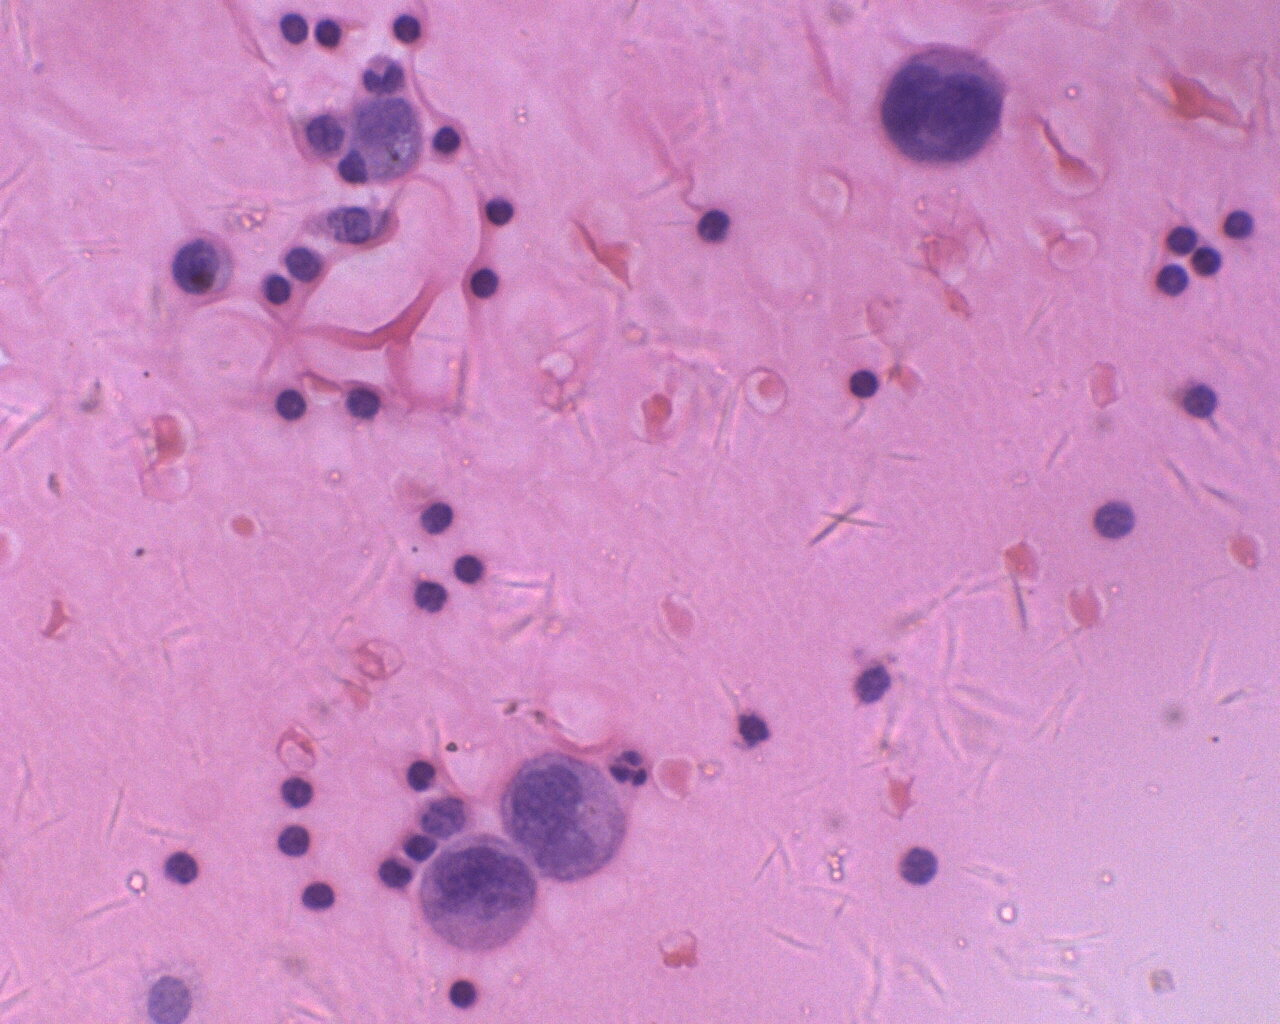ab: (501, 750, 631, 887), (871, 40, 1008, 169), (418, 832, 538, 958), (170, 234, 239, 300)
lymph: (1219, 205, 1262, 248), (274, 383, 315, 427), (298, 878, 340, 920), (479, 188, 519, 231), (401, 753, 441, 797), (448, 550, 494, 587), (424, 122, 465, 164), (385, 9, 426, 48), (466, 265, 507, 304), (273, 819, 316, 856), (1153, 259, 1190, 299), (274, 7, 315, 44), (445, 973, 480, 1014), (846, 364, 878, 404)
neutro: (607, 742, 651, 794)
